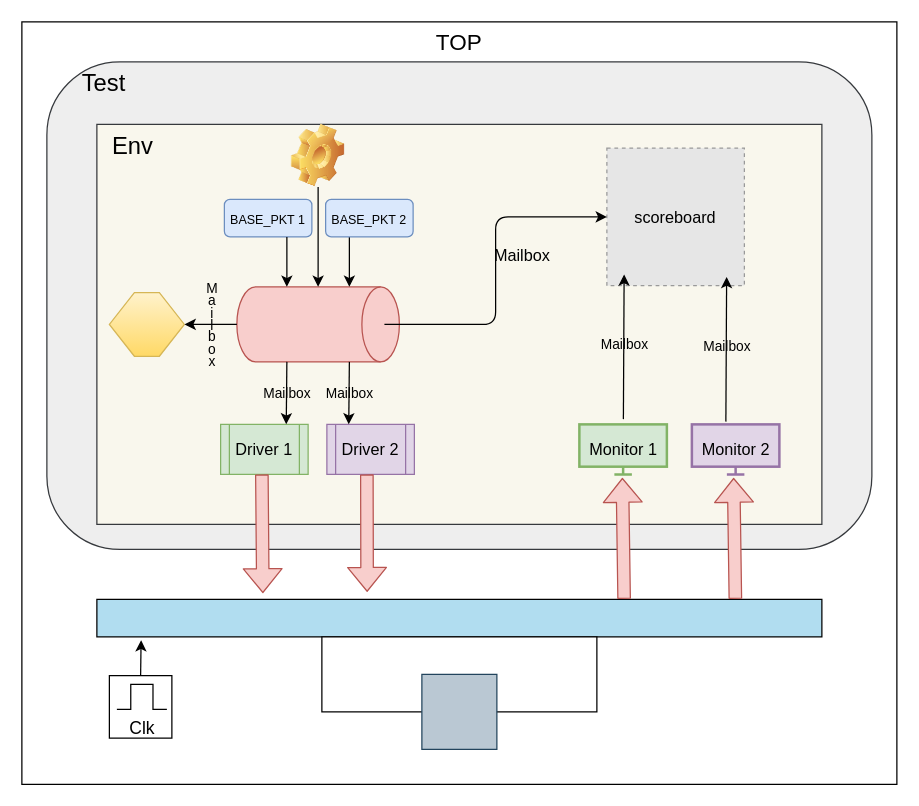
Image size: 919x806. Some labels were removed from this diagram. Grey dashed boxes stand in for pictures. The shapes that lost their labels are listed below. From the top down, each one's centre as x and y in pixels, then its label:
the point at 317,155: Config
the point at 146,323: Cover Group
the point at 317,324: TXGEN
the point at 459,617: Interface
the point at 459,711: DPRAM DUT
